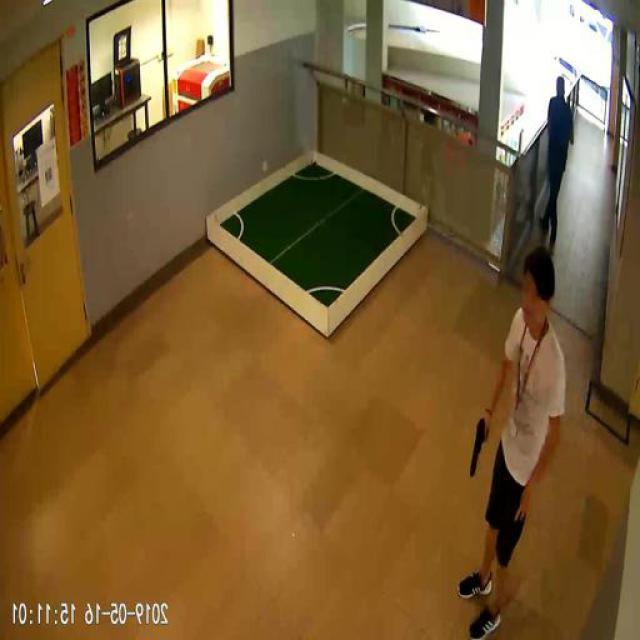weapon: (468, 417, 488, 479)
